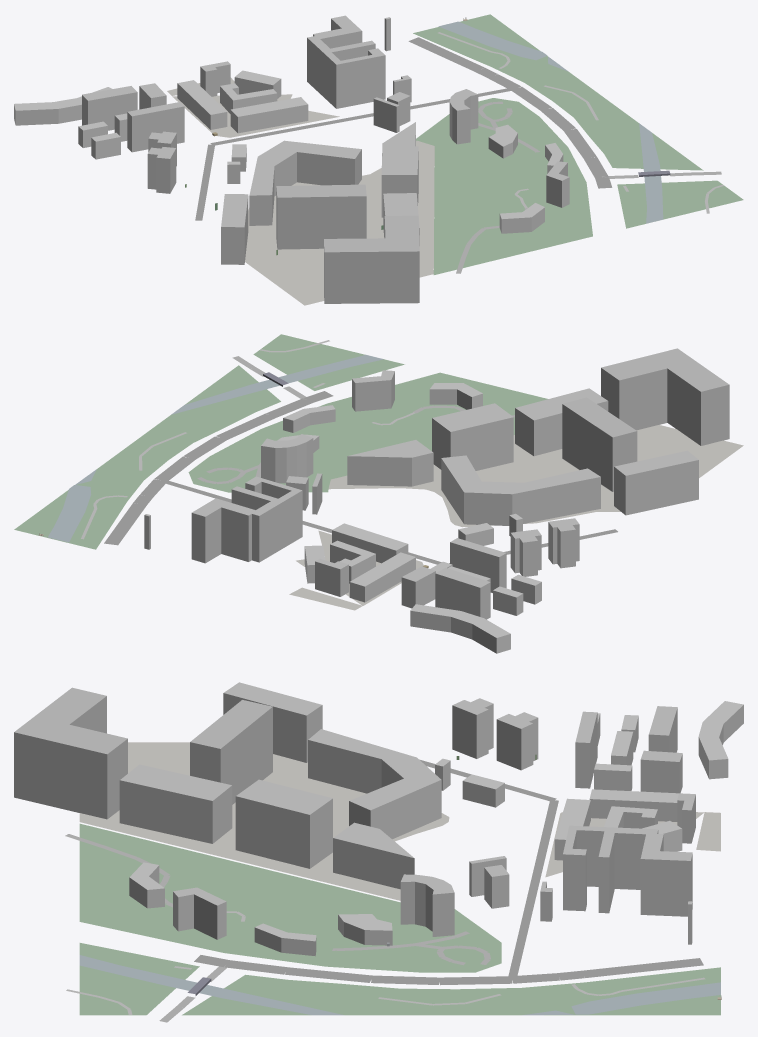
3 renders of one model, top to bottom at view 1: azimuth 30°, elevation 25°; view 2: azimuth 150°, elevation 25°; view 3: azimuth 270°, elevation 25°, orthographic. The views are drawn at different scales.
Size of the model in its own units: 552 by 57.98 by 569.
